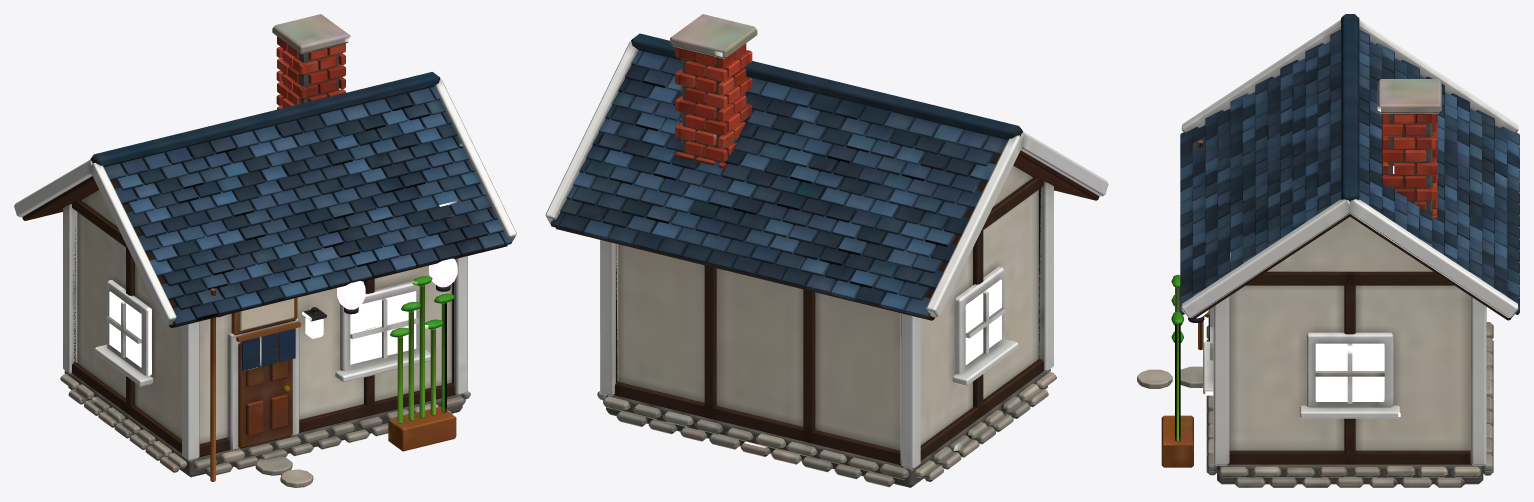
The model's file is sushi_bar.glb.
3 views of the same model, side by side, from view 1: azimuth 30°, elevation 25°; view 2: azimuth 150°, elevation 25°; view 3: azimuth 270°, elevation 25° (orthographic). The views are drawn at different scales.
Parts seen in each view (by area): view 1: sushi_bar; view 2: sushi_bar; view 3: sushi_bar.
Part boxes in pixels (x1=…): sushi_bar: x1=14, y1=14, x2=516, y2=487; sushi_bar: x1=545, y1=14, x2=1108, y2=487; sushi_bar: x1=1137, y1=14, x2=1519, y2=487.
Bounding box in the file's own units: 1.9 × 1.73 × 1.67.
Materials: 1 (1 with a texture image).
